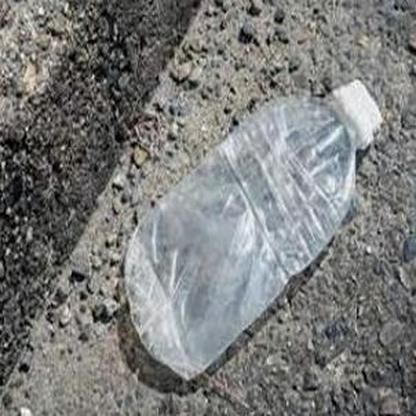plastic bottle: (124, 80, 384, 380)
